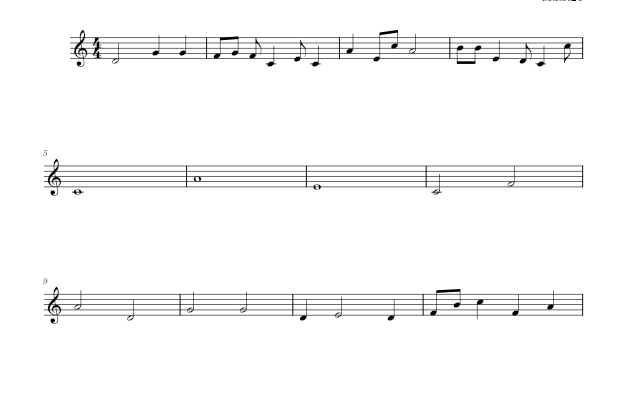Treble Clef: (44, 155, 66, 200), (44, 284, 66, 327), (69, 26, 89, 70)
